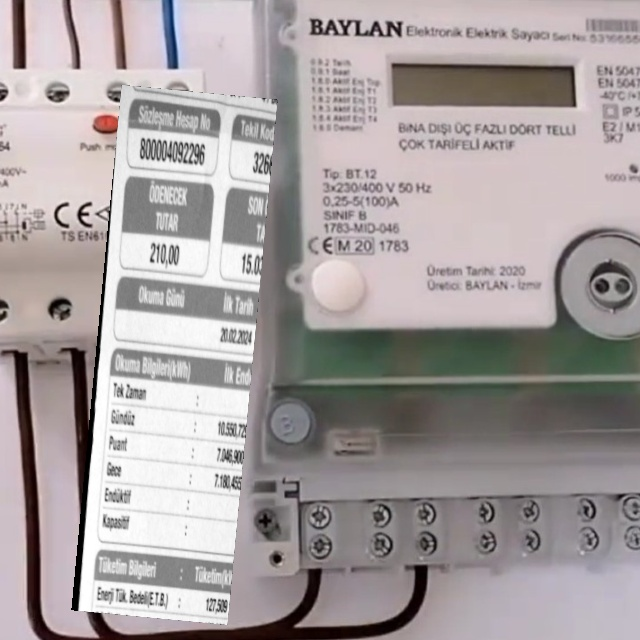electricity-bill: (71, 84, 277, 624)
